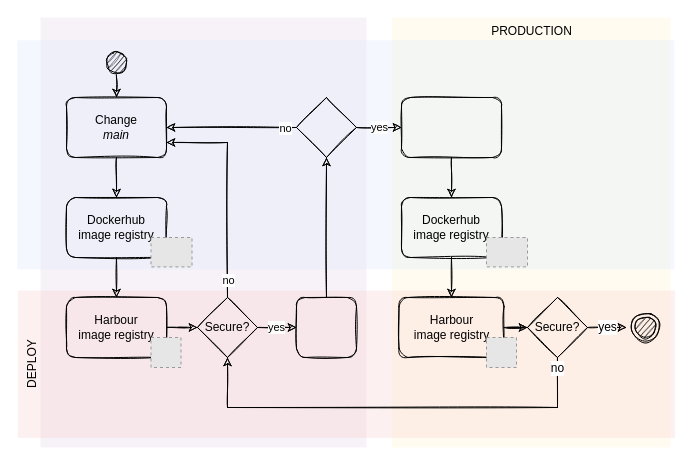
Image size: 692x464. Some labels were removed from this diagram. Grey dashed boxes stand in for pictures. The box of each missing label's shape, as (x1, y1, x2, y2) in pixels:
DEVELOP: (17, 40, 674, 269)
Functional?: (296, 96, 356, 158)
QA: (296, 296, 356, 358)
QUALITY ASSURANCE: (40, 17, 366, 447)
Release semver: (400, 96, 502, 158)
